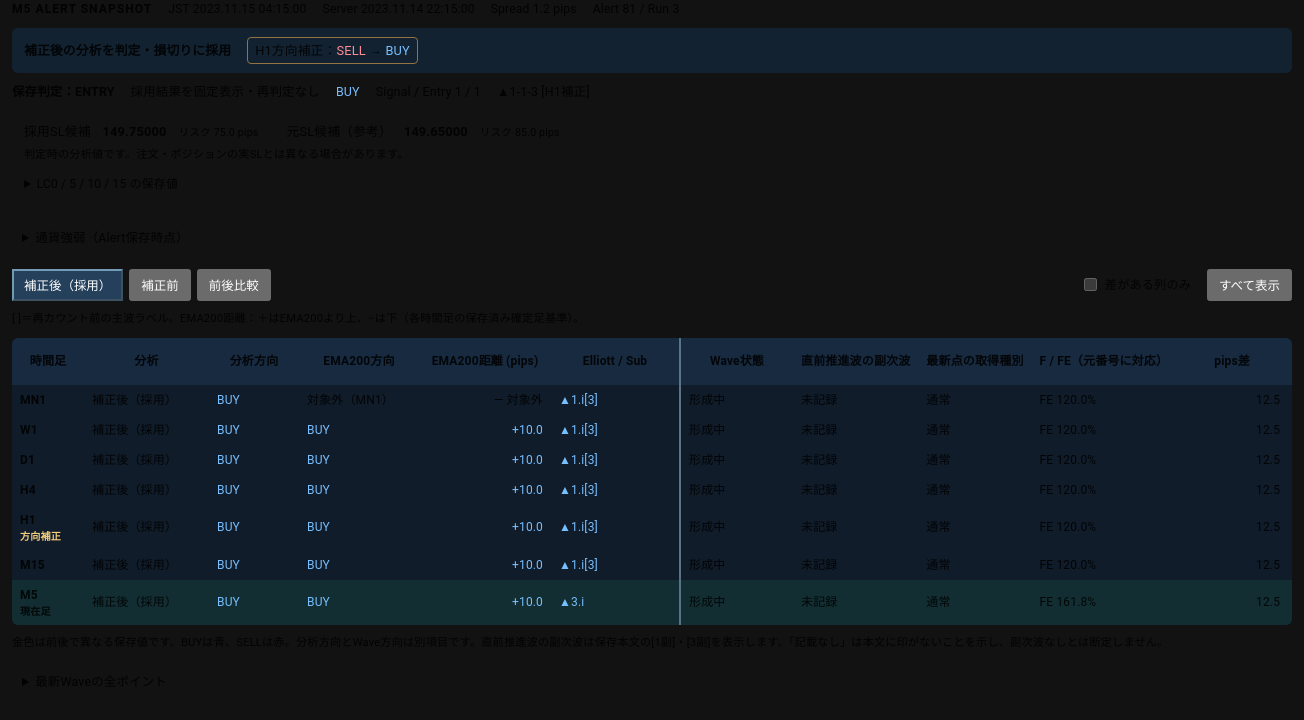
Test: M5 Alert corrected snapshots › keeps missing original frame slots instead of borrowing corrected values
The width and height of the screenshot is (1304, 720).
Click the button "前後比較" at (234, 285), box [197,269,271,301]
(page scrolled)
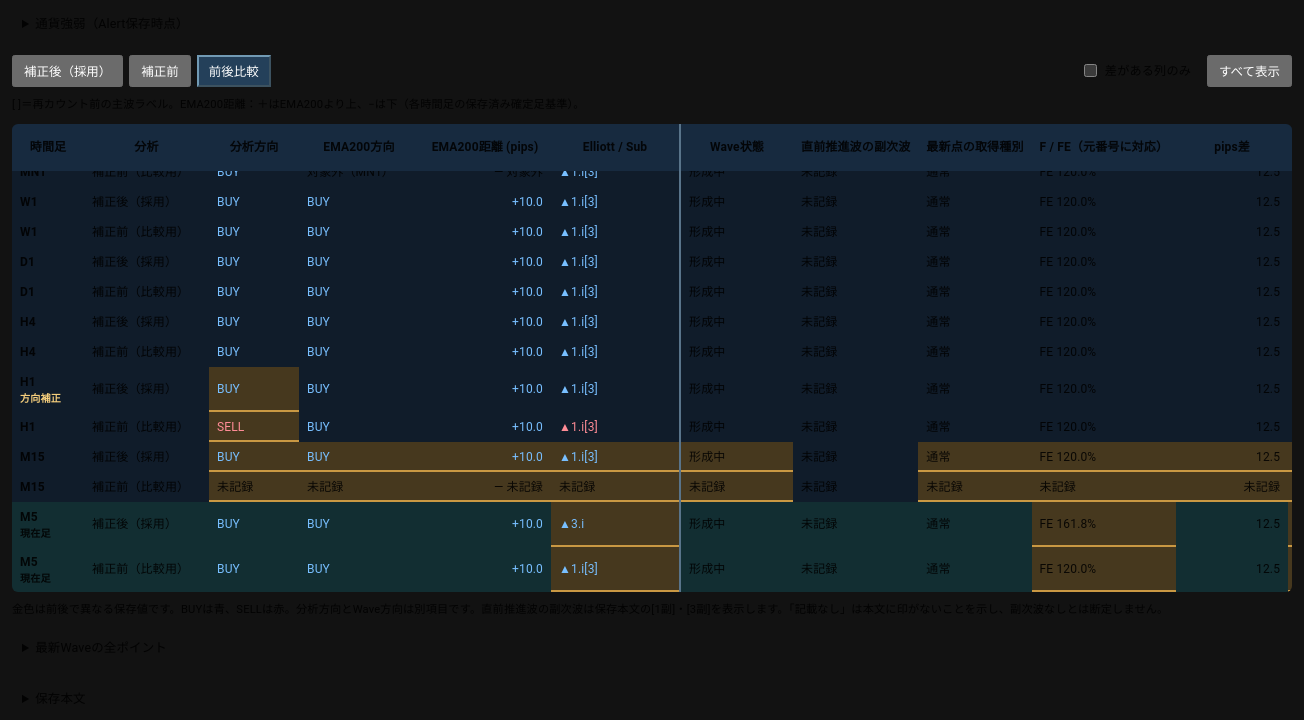
Expected: the cell "+10.0" in the row of "-1" is shown, [512,450,543,464]
Result: the cell "— 未記録" is shown at [419,472,551,502]
